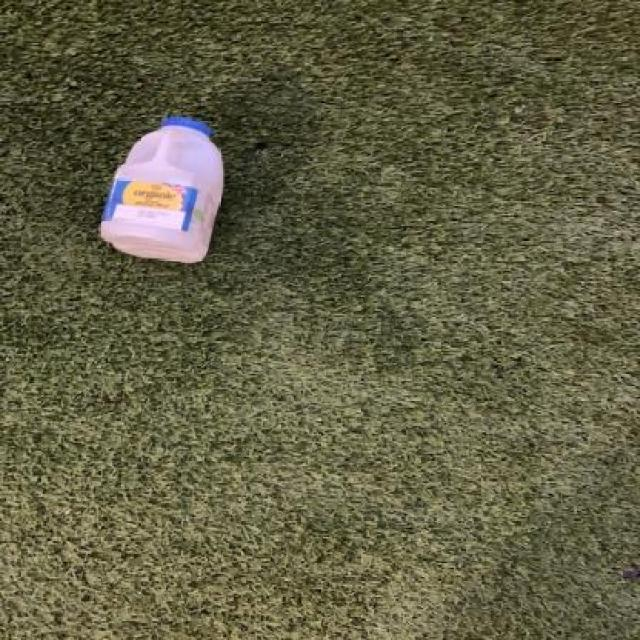trash: (100, 117, 234, 271)
